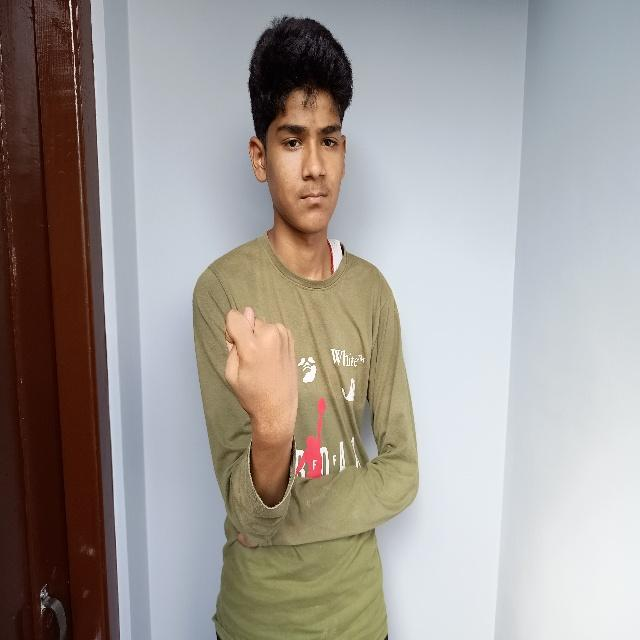Dulya: (214, 294, 309, 445)
